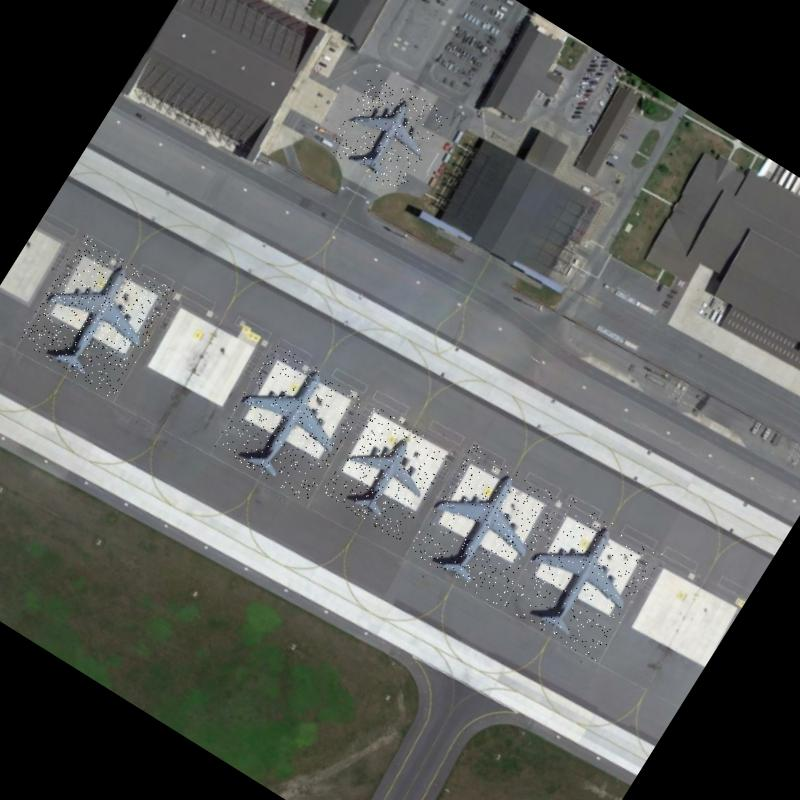A3: (320, 406, 454, 542), (324, 68, 450, 196)
A4: (16, 234, 179, 400), (502, 497, 663, 664), (407, 443, 564, 608), (211, 342, 370, 504)
